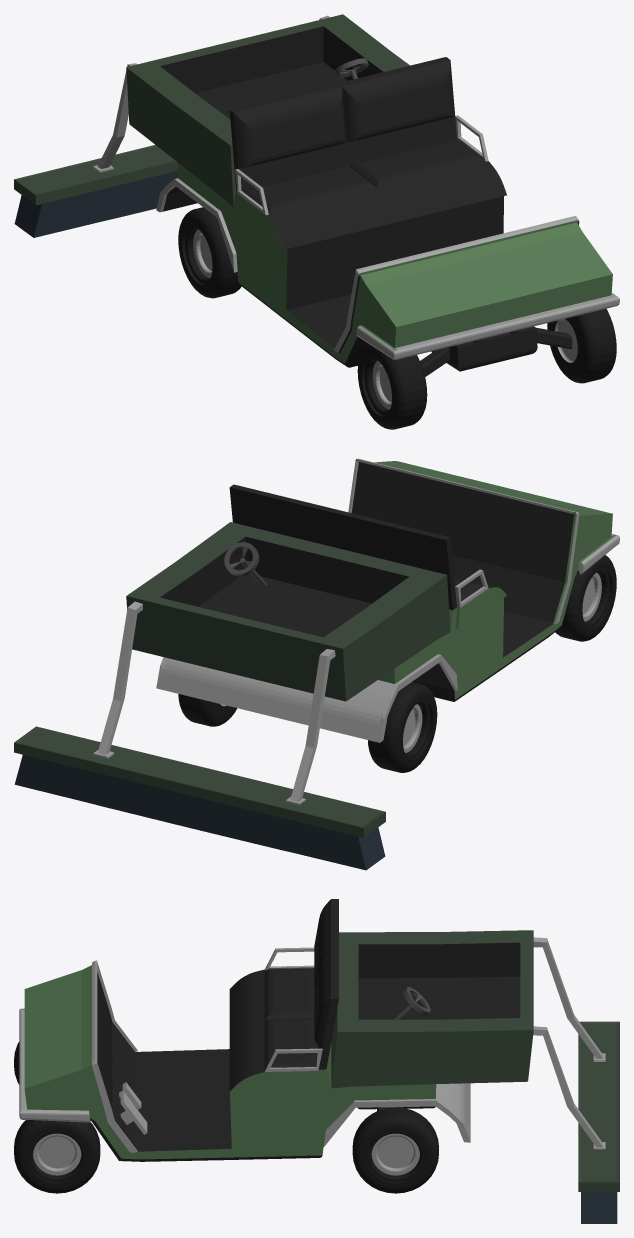
The model's file is Cart final.fbx.
3 views of the same model, one above another, from view 1: azimuth 30°, elevation 25°; view 2: azimuth 150°, elevation 25°; view 3: azimuth 270°, elevation 25° (orthographic). The views are drawn at different scales.
Visible parts, largest first — view 1: Cart base, Brush, front wheels, front wheels.001, front wheels.002; view 2: Cart base, Brush, front wheels.001, front wheels, front wheels.003, steering wheel; view 3: Cart base, Brush, front wheels.003, front wheels.002, steering wheel.
Boxes of the visible parts, x1,y1,x2,y2 form: Cart base: (126,14,619,376); Brush: (14,15,329,237); front wheels: (357,343,427,429); front wheels.001: (178,207,241,298); front wheels.002: (547,308,616,383); Cart base: (126,458,619,742); Brush: (14,601,385,870); front wheels.001: (368,682,437,772); front wheels: (555,555,616,641); front wheels.003: (178,694,237,726); steering wheel: (224,542,267,586); Cart base: (19,899,533,1161); Brush: (533,937,619,1223); front wheels.003: (352,1107,438,1193); front wheels.002: (14,1120,100,1193); steering wheel: (394,987,430,1019).
Size of the model in its own units: 334 by 190 by 529.
